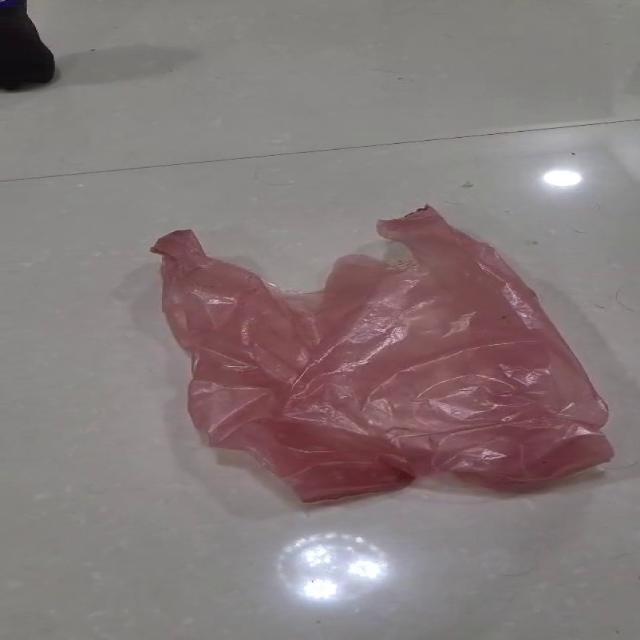plastic: (148, 202, 614, 503)
